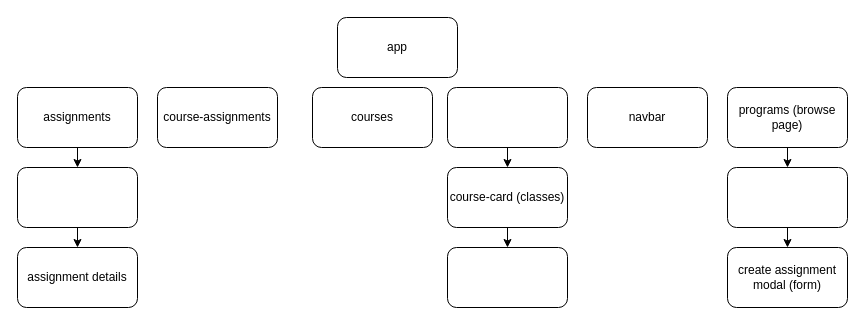
The diagram is 865 pixels wide and 325 high, and some of its shapes have lost their labels. Each missing label, with the box of its shape:
assignment: (16, 166, 138, 228)
course-assignment-details: (446, 246, 568, 308)
home: (446, 86, 568, 148)
Program details: (726, 166, 848, 228)
